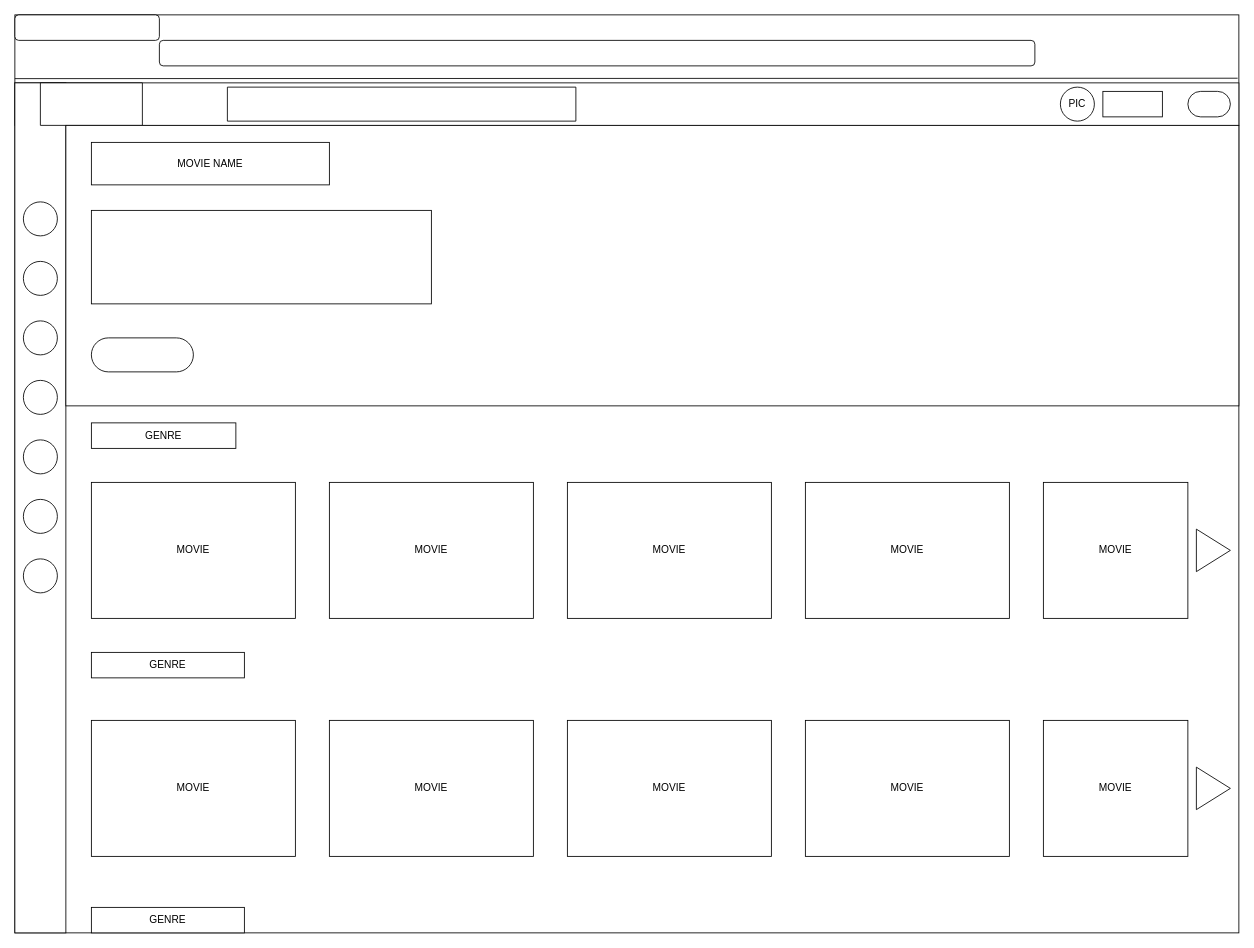
Image size: 1254x948. Some labels were removed from this diagram. The shapes that lost their labels are listed below. From the top down, each one's box as (x1, y1, x2, y2) in pixels, then its label:
(159, 40, 1035, 66): ADDRESS BAR
(40, 82, 142, 125): SITE NAME
(227, 86, 576, 121): HOME MOVIES SERIES POPULAR
(1102, 91, 1162, 117): PROFILE
(1187, 91, 1230, 117): TOGGLE
(91, 210, 431, 304): MOVIE SUMMARY
(91, 337, 193, 372): BUTTON
